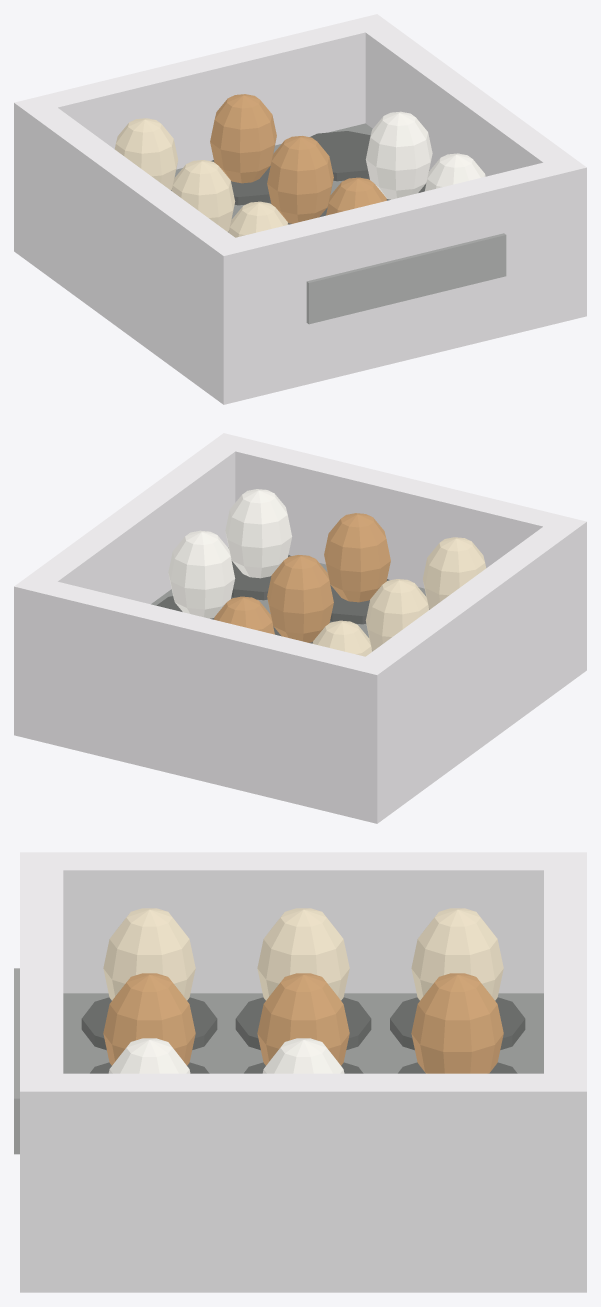
File: Building_EggBox.glb
3 views of the same model, one above another, from view 1: azimuth 30°, elevation 25°; view 2: azimuth 150°, elevation 25°; view 3: azimuth 270°, elevation 25° (orthographic). The views are drawn at different scales.
Visible parts, largest first — view 1: EggBox; view 2: EggBox; view 3: EggBox.
Boxes of the visible parts, bbox=[...] form: EggBox: bbox=[14, 14, 586, 404]; EggBox: bbox=[14, 433, 586, 823]; EggBox: bbox=[14, 852, 586, 1292].
Size of the model in its own units: 0.92 by 0.36 by 0.93.
1 material, 1 textured.
